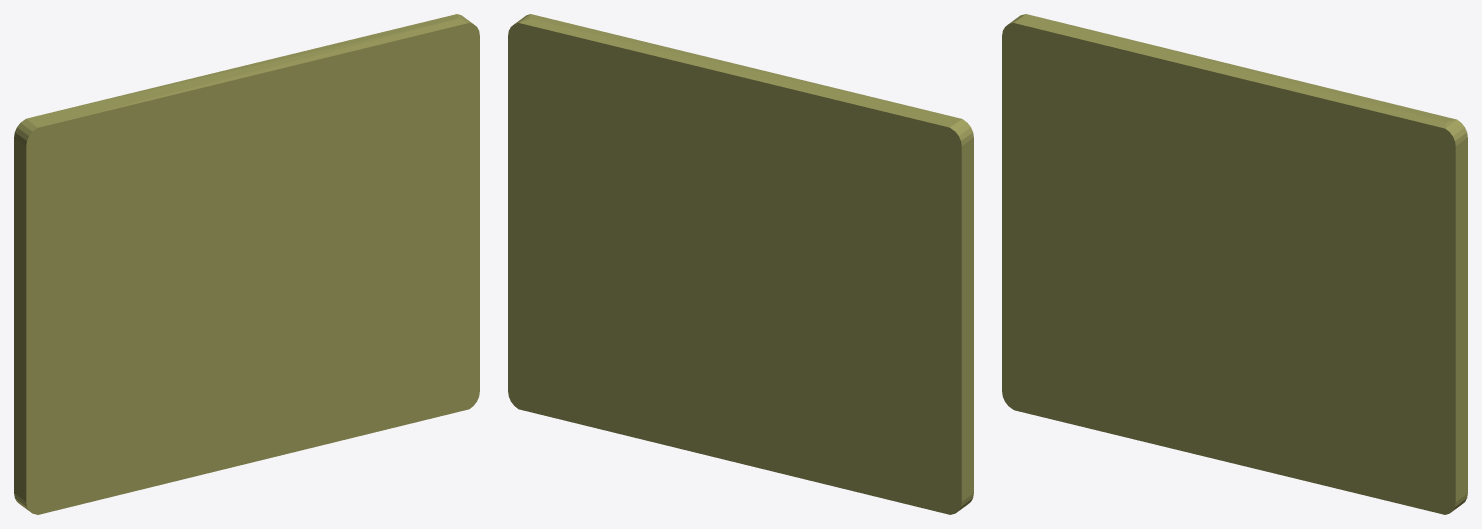
File: OBJ_PCB_Teensy to click adapter.obj
3 renders of one model, left to right at view 1: azimuth 30°, elevation 25°; view 2: azimuth 150°, elevation 25°; view 3: azimuth 330°, elevation 25°, orthographic.
Bounding box in the file's own units: 215 × 176 × 10.
